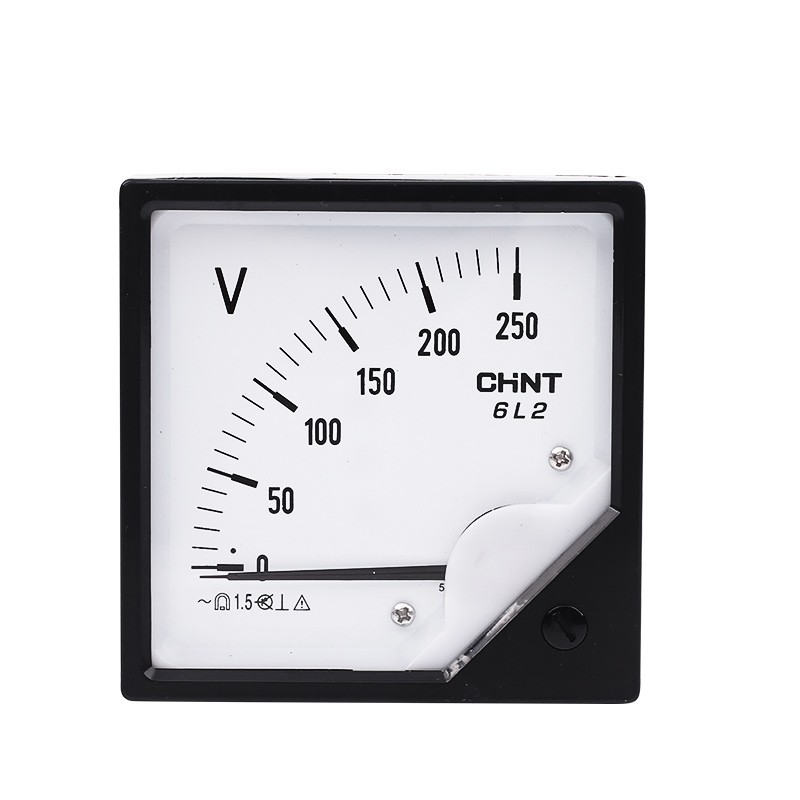pointer: (145, 205, 614, 673)
